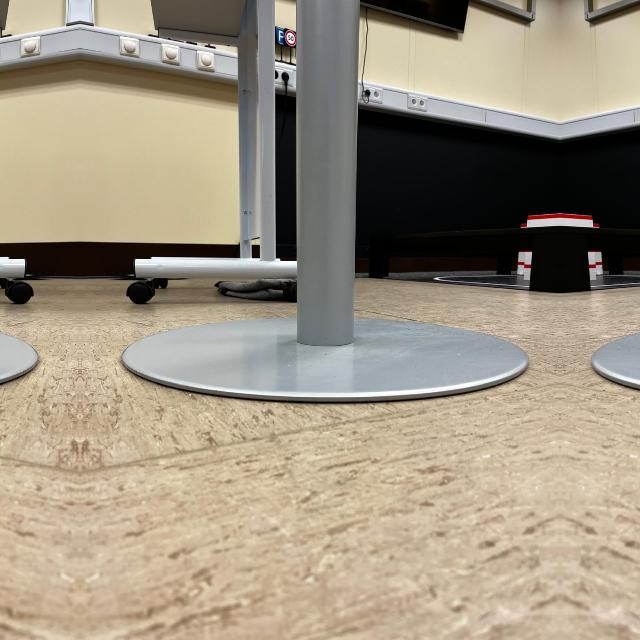obstacle: (127, 113, 529, 404), (591, 113, 640, 404), (0, 113, 33, 404)
